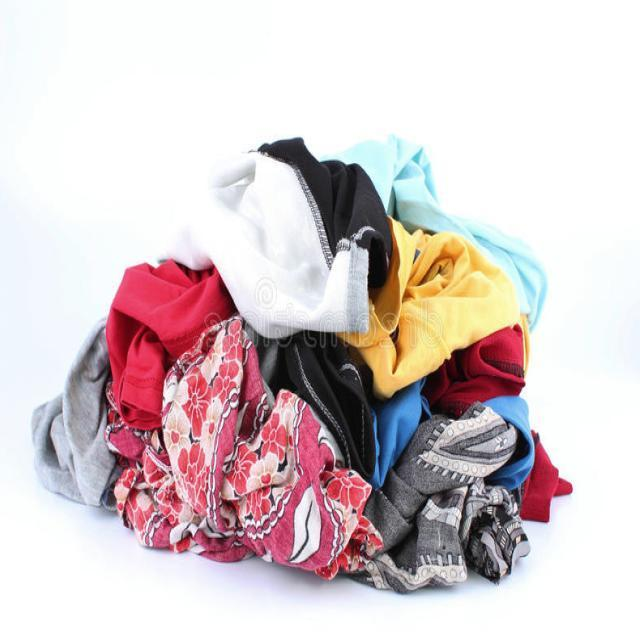clothes: (37, 122, 550, 580)
